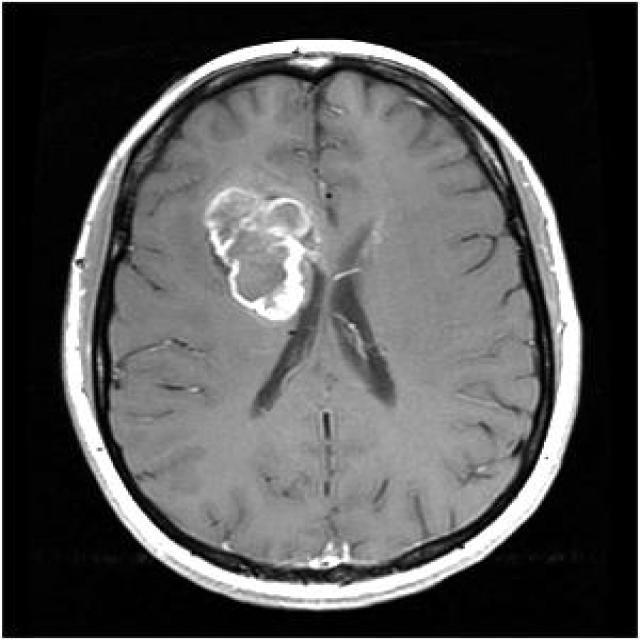brain tumor: (205, 189, 303, 324)
